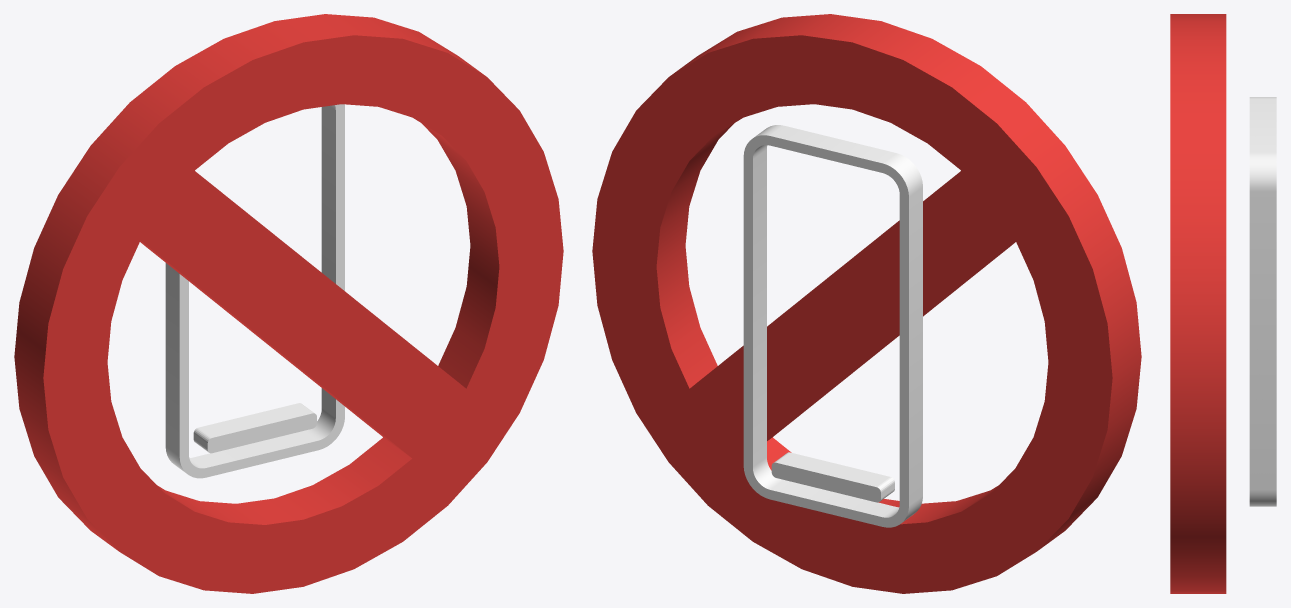
File: no_mobile_phones.glb
The picture shows the model from 3 angles, left to right: view 1: azimuth 30°, elevation 25°; view 2: azimuth 150°, elevation 25°; view 3: azimuth 270°, elevation 25°; orthographic projection. The views are drawn at different scales.
Visible parts, largest first — view 1: Circle.2626, Cube.6311; view 2: Circle.2626, Cube.6311; view 3: Circle.2626, Cube.6311.
Part boxes in pixels (x1,y1,x2,y2): Circle.2626: (14, 14, 563, 593); Cube.6311: (165, 104, 344, 478); Circle.2626: (592, 14, 1141, 593); Cube.6311: (743, 125, 922, 527); Circle.2626: (1170, 14, 1226, 593); Cube.6311: (1249, 97, 1276, 506).
Bounding box in the file's own units: 1.92 × 1.92 × 0.3533.
1 material, 1 textured.
